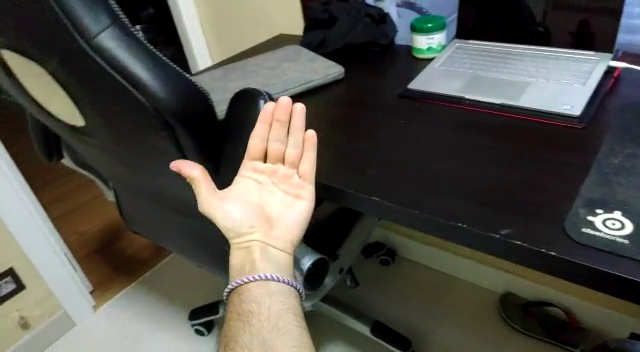Palm: (167, 90, 319, 251)
